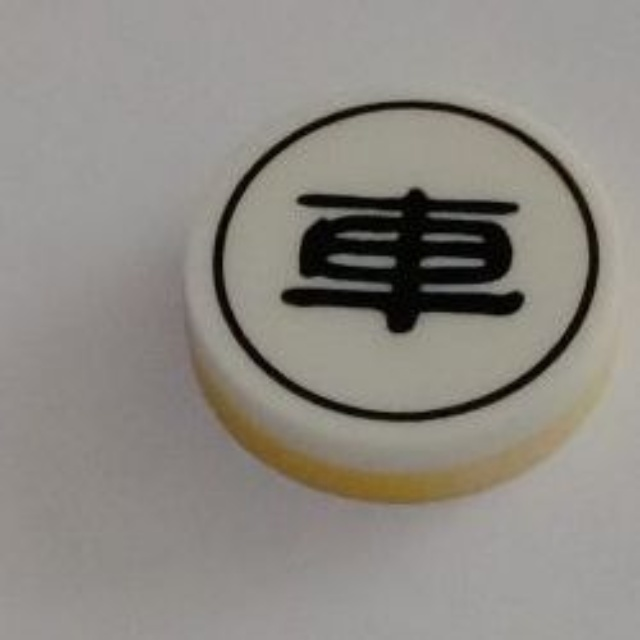black_xe: (180, 86, 624, 509)
